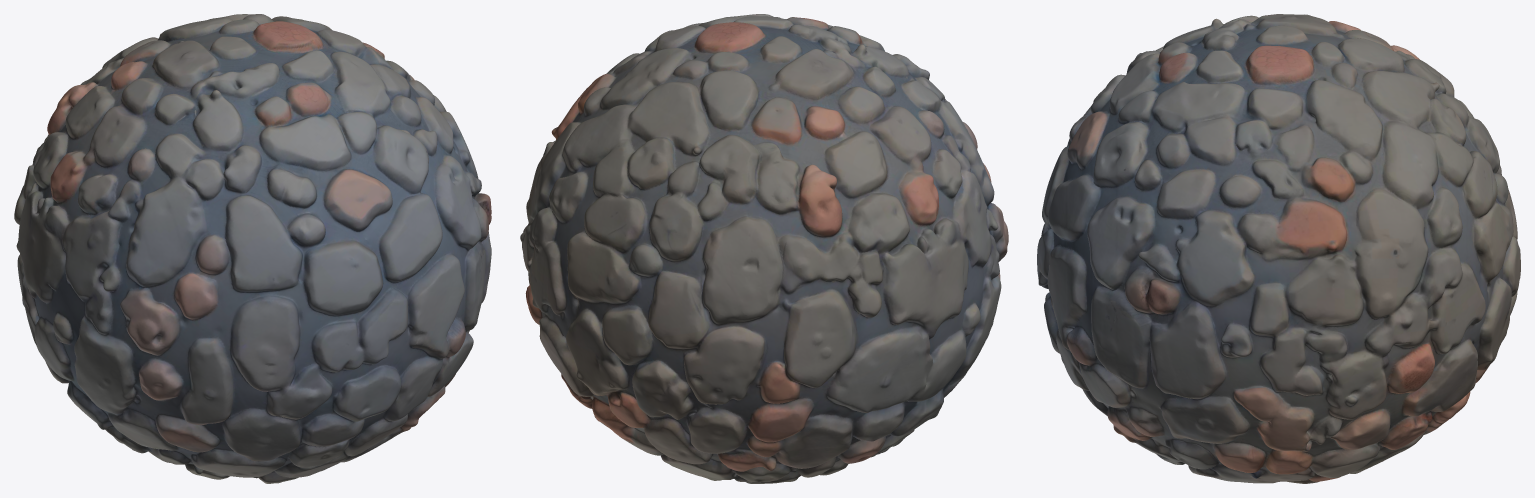
Rendered from detailed_realistic_model_default_01.glb.
3 renders of one model, left to right at view 1: azimuth 30°, elevation 25°; view 2: azimuth 150°, elevation 25°; view 3: azimuth 270°, elevation 25°, orthographic.
Parts seen in each view (by area): view 1: tripo_node_a3047582-4ac8-4243-b7e5-3deb710fa0a4; view 2: tripo_node_a3047582-4ac8-4243-b7e5-3deb710fa0a4; view 3: tripo_node_a3047582-4ac8-4243-b7e5-3deb710fa0a4.
Boxes of the visible parts, box(x1,y1,x2,y2) form: tripo_node_a3047582-4ac8-4243-b7e5-3deb710fa0a4: box(14, 14, 491, 483); tripo_node_a3047582-4ac8-4243-b7e5-3deb710fa0a4: box(520, 14, 1008, 483); tripo_node_a3047582-4ac8-4243-b7e5-3deb710fa0a4: box(1037, 14, 1520, 483).
Size of the model in its own units: 0.9883 by 0.9513 by 1.
Materials: 1 (1 with a texture image).
